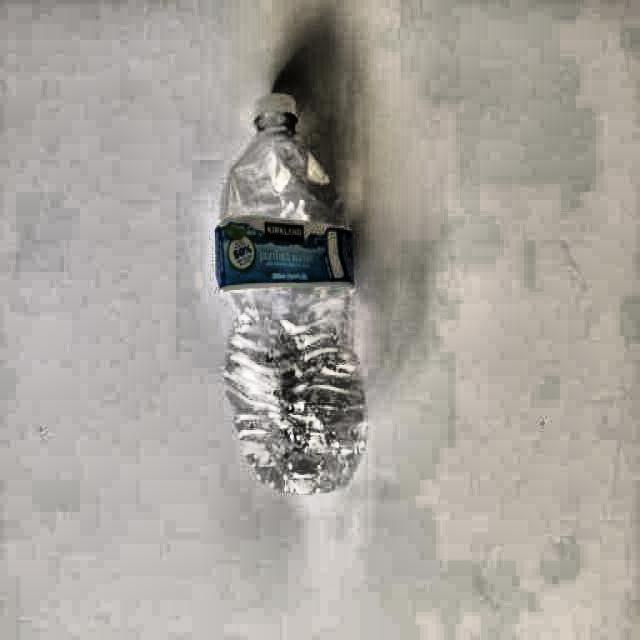plastic bottle: (215, 93, 366, 494)
